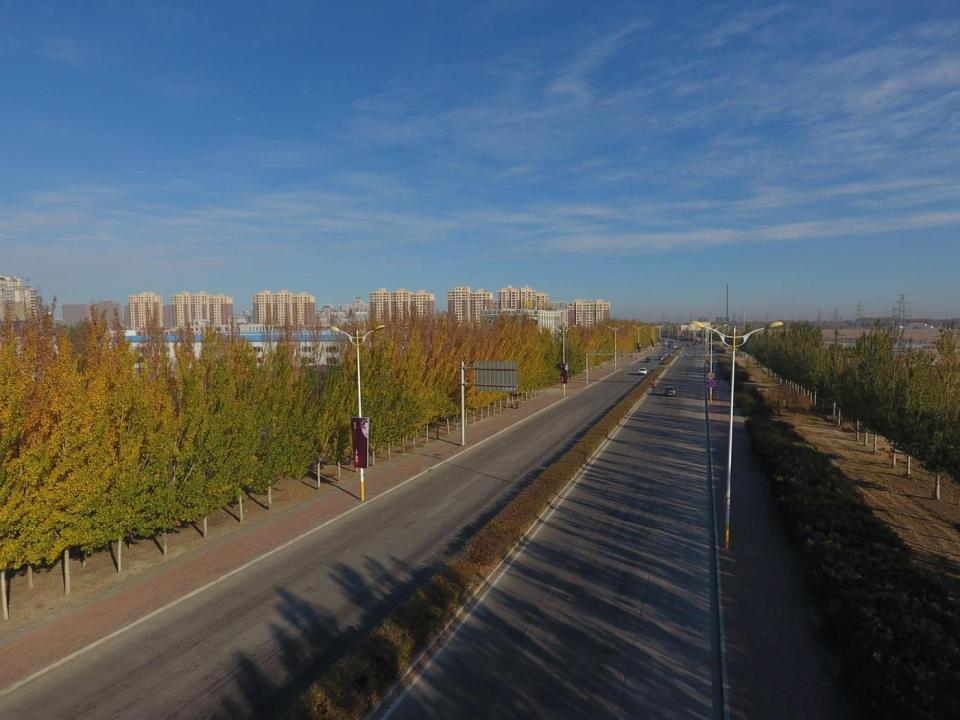car: (664, 386, 677, 396), (639, 368, 647, 375), (645, 356, 652, 362), (657, 356, 664, 360), (693, 342, 696, 345), (663, 352, 667, 354), (663, 347, 667, 349), (686, 344, 690, 346), (668, 344, 671, 346)
van: (672, 345, 676, 348), (665, 342, 667, 345)
